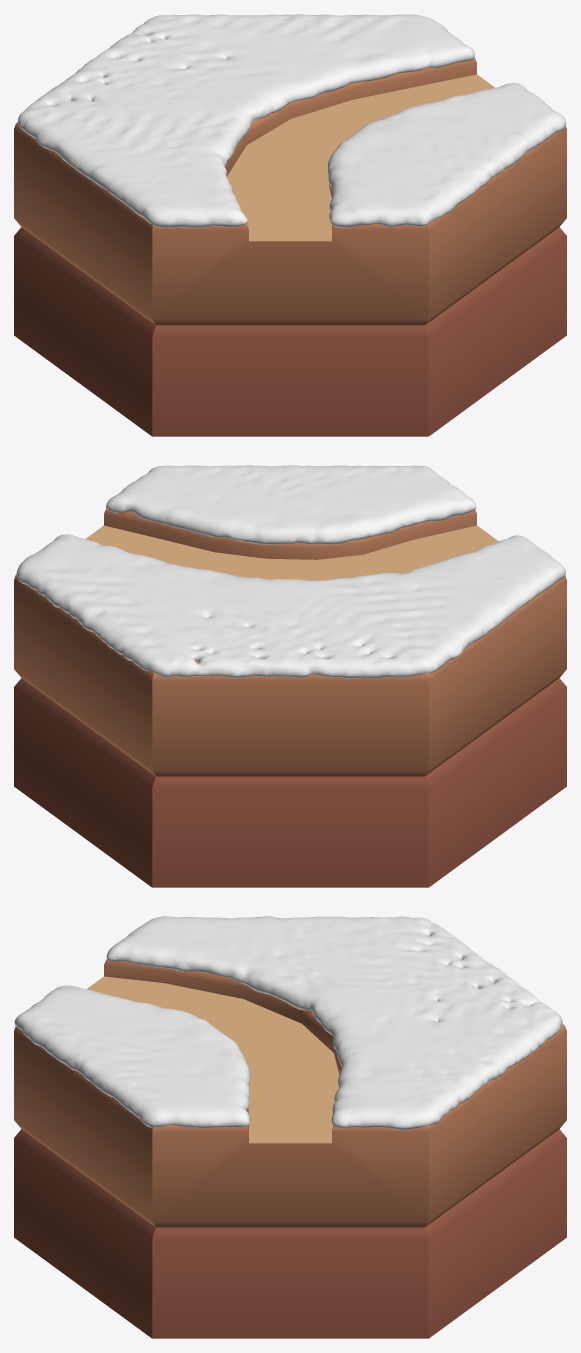
File: hex_rock_roadD_detail.fbx
3 views of the same model, one above another, from view 1: azimuth 30°, elevation 25°; view 2: azimuth 150°, elevation 25°; view 3: azimuth 270°, elevation 25° (orthographic).
Visible parts, largest first — view 1: SnowBall.001, hex_rock_roadD_detail.002, hex_rock_roadD_detail.001, hex_rock_roadD_detail; view 2: SnowBall.001, hex_rock_roadD_detail.002, hex_rock_roadD_detail.001, hex_rock_roadD_detail; view 3: SnowBall.001, hex_rock_roadD_detail.002, hex_rock_roadD_detail.001, hex_rock_roadD_detail.
Boxes of the visible parts, left/top/right/bottom form: SnowBall.001: left=17, top=14, right=566, bottom=227; hex_rock_roadD_detail.002: left=14, top=227, right=566, bottom=436; hex_rock_roadD_detail.001: left=14, top=57, right=566, bottom=325; hex_rock_roadD_detail: left=227, top=74, right=495, bottom=241; SnowBall.001: left=16, top=465, right=565, bottom=678; hex_rock_roadD_detail.002: left=14, top=678, right=566, bottom=887; hex_rock_roadD_detail.001: left=14, top=509, right=566, bottom=776; hex_rock_roadD_detail: left=85, top=525, right=498, bottom=580; SnowBall.001: left=14, top=916, right=562, bottom=1130; hex_rock_roadD_detail.002: left=14, top=1129, right=566, bottom=1338; hex_rock_roadD_detail.001: left=14, top=959, right=566, bottom=1227; hex_rock_roadD_detail: left=86, top=976, right=339, bottom=1143.
Size of the model in its own units: 203 by 104 by 231.
